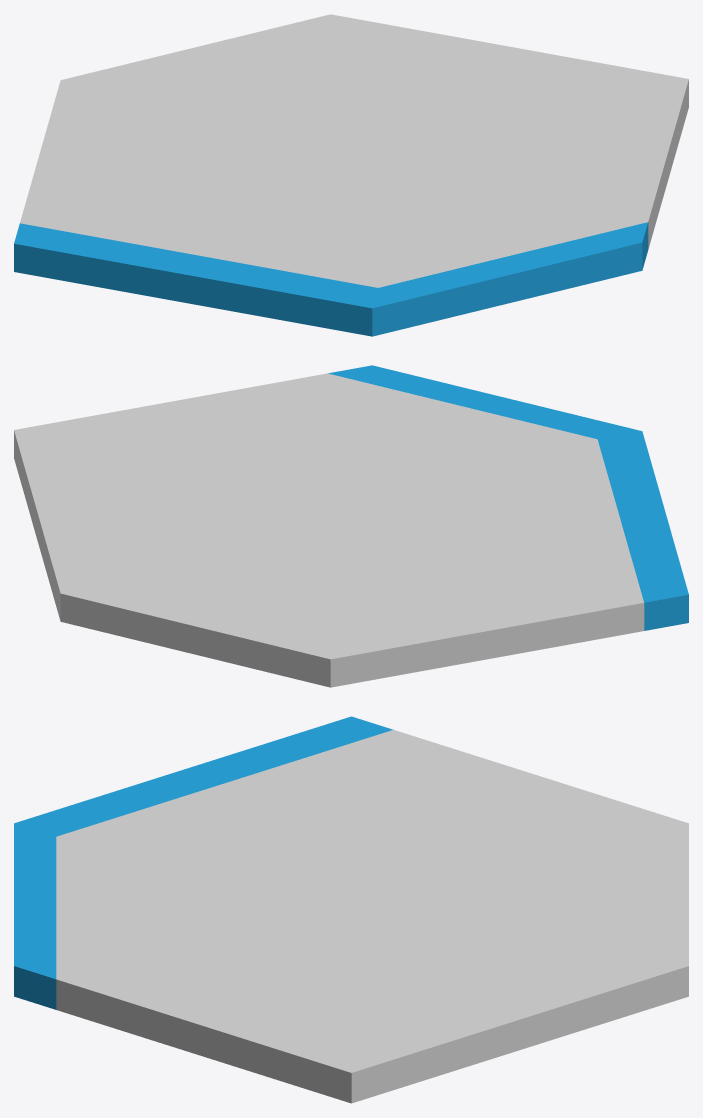
3 views of the same model, one above another, from view 1: azimuth 30°, elevation 25°; view 2: azimuth 150°, elevation 25°; view 3: azimuth 270°, elevation 25° (orthographic). The views are drawn at different scales.
Parts seen in each view (by area): view 1: Hexagon, SW, S; view 2: Hexagon, SW, S; view 3: Hexagon, SW, S.
Boxes of the visible parts, x1,y1,x2,y2 form: Hexagon: [20, 14, 688, 287]; SW: [14, 223, 377, 336]; S: [372, 222, 648, 336]; Hexagon: [14, 373, 644, 687]; SW: [597, 431, 688, 630]; S: [328, 365, 641, 439]; Hexagon: [56, 730, 688, 1103]; SW: [14, 716, 393, 836]; S: [14, 823, 56, 1009].
Bounding box in the file's own units: 5 × 4 × 0.2.
